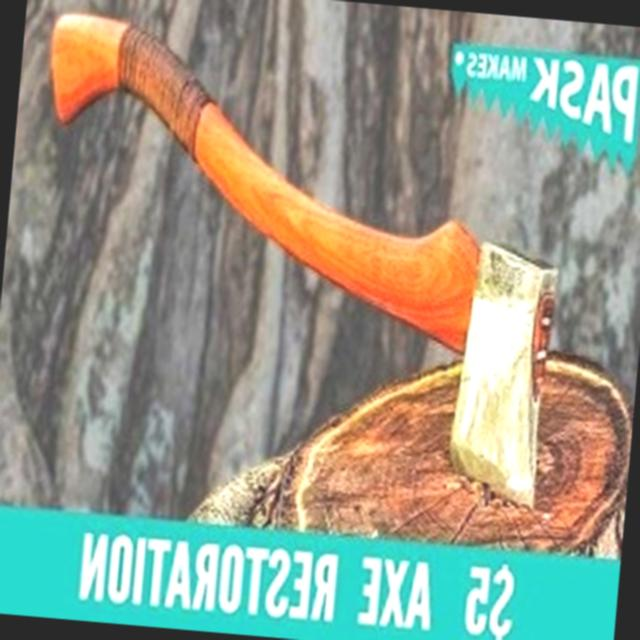ax: (0, 0, 590, 518)
